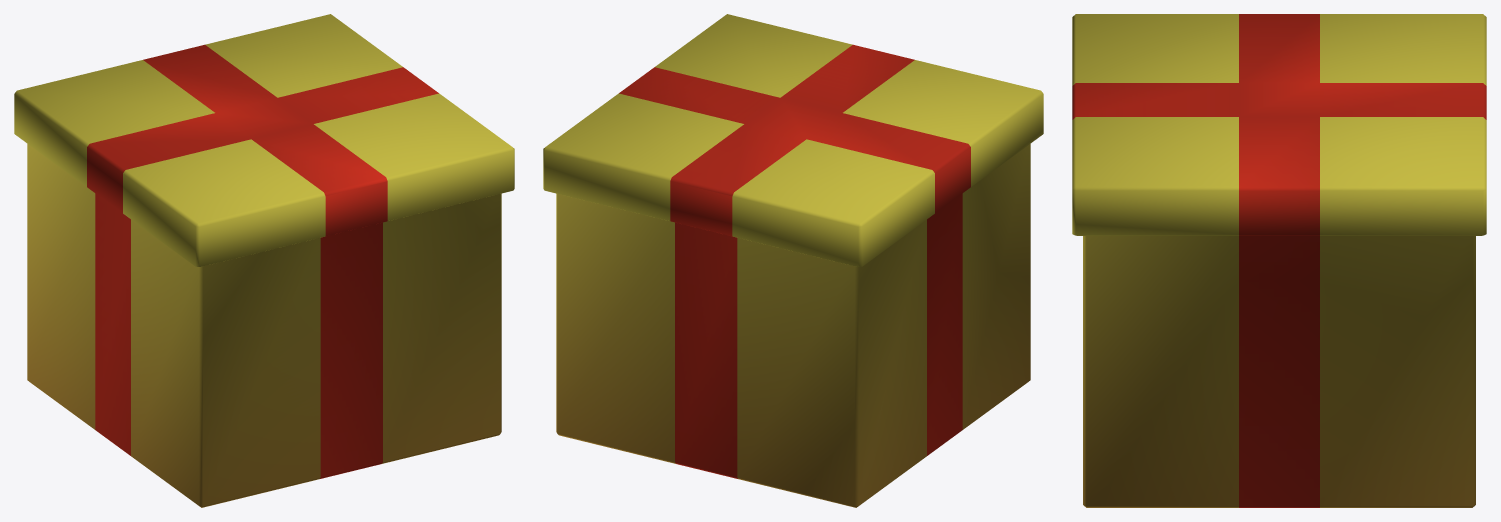
Rendered from gift.glb.
3 views of the same model, side by side, from view 1: azimuth 30°, elevation 25°; view 2: azimuth 150°, elevation 25°; view 3: azimuth 270°, elevation 25° (orthographic). The views are drawn at different scales.
Parts seen in each view (by area): view 1: gift; view 2: gift; view 3: gift.
Part boxes in pixels (x1,y1,x2,y2): gift: [14, 14, 514, 507]; gift: [543, 14, 1043, 507]; gift: [1072, 14, 1486, 507].
Bounding box in the file's own units: 0.6 × 0.5216 × 0.6.
